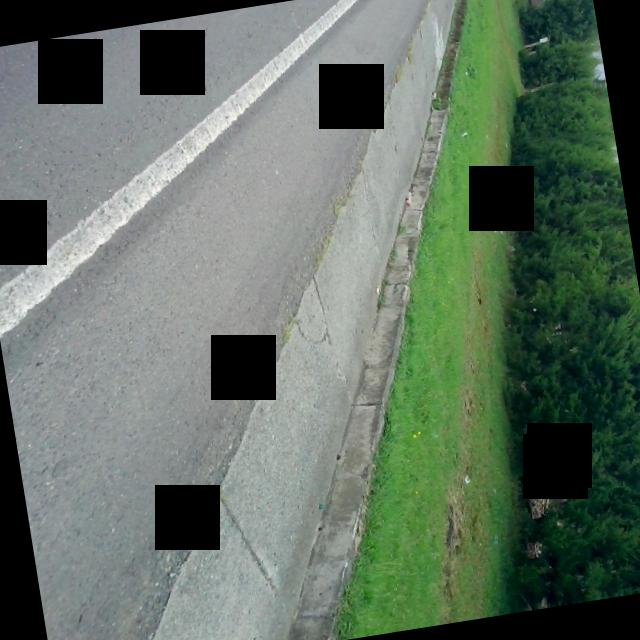DITCH: (0, 0, 596, 640), (0, 0, 568, 640)
